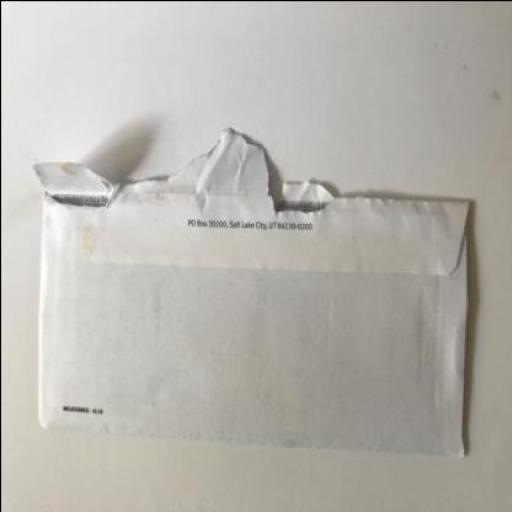paper: (30, 124, 468, 457)
